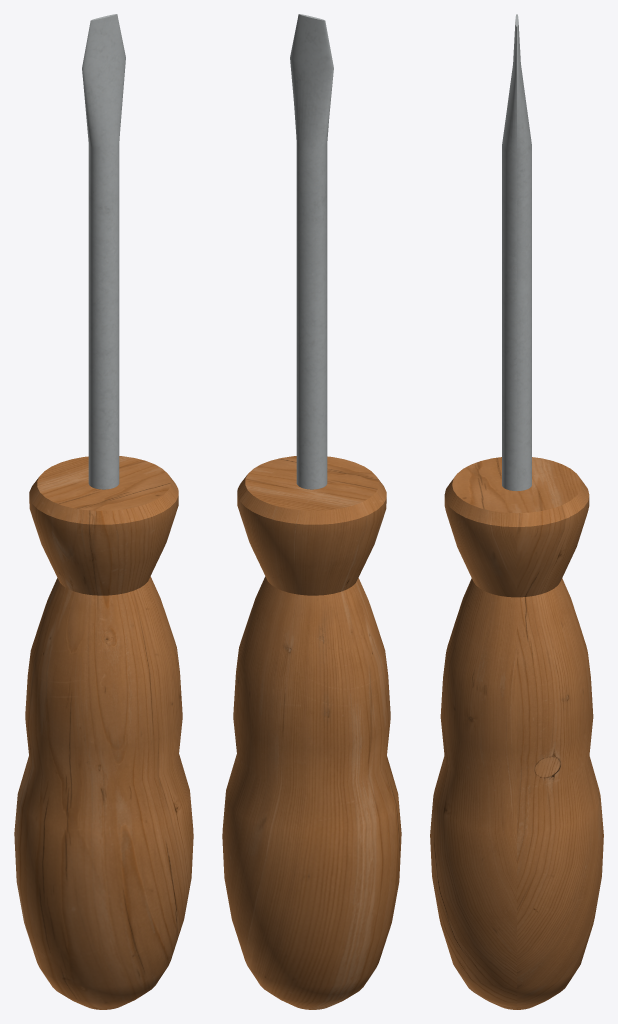
The model's file is screwdriver.fbx.
The picture shows the model from 3 angles, left to right: view 1: azimuth 30°, elevation 25°; view 2: azimuth 150°, elevation 25°; view 3: azimuth 270°, elevation 25°; orthographic projection.
Parts seen in each view (by area): view 1: Screwdriver; view 2: Screwdriver; view 3: Screwdriver.
Part boxes in pixels (box(x1,y1,x2,y2)): Screwdriver: box(14, 14, 193, 1009); Screwdriver: box(222, 14, 401, 1009); Screwdriver: box(430, 14, 603, 1009).
Size of the model in its own units: 5.3 by 31.68 by 5.1.
Materials: 1 (1 with a texture image).
